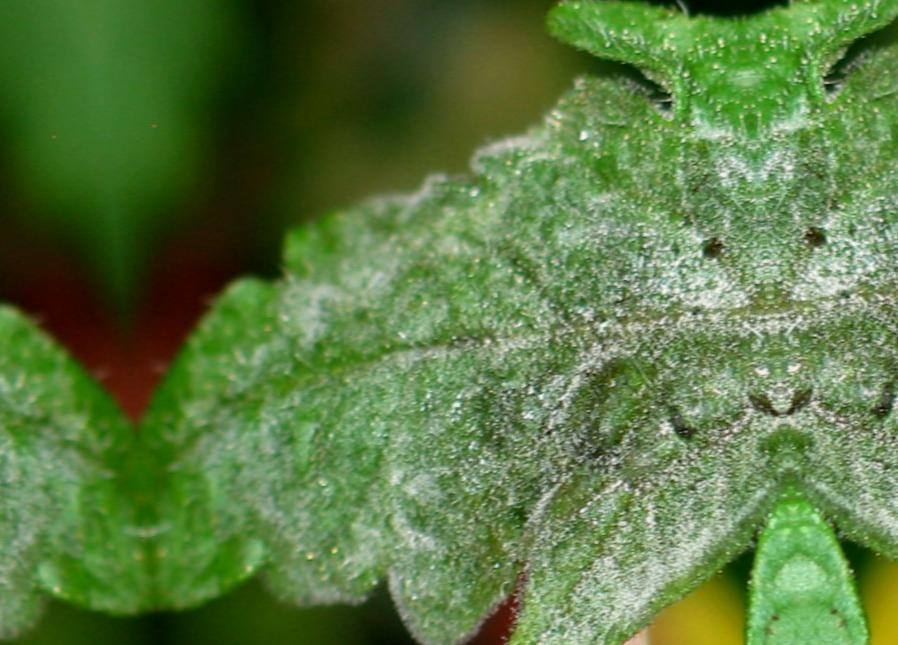Tomato leaf late blight: (91, 0, 818, 645)
